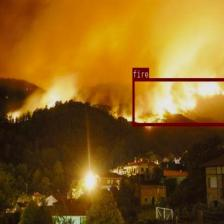fire: (132, 77, 224, 125)
